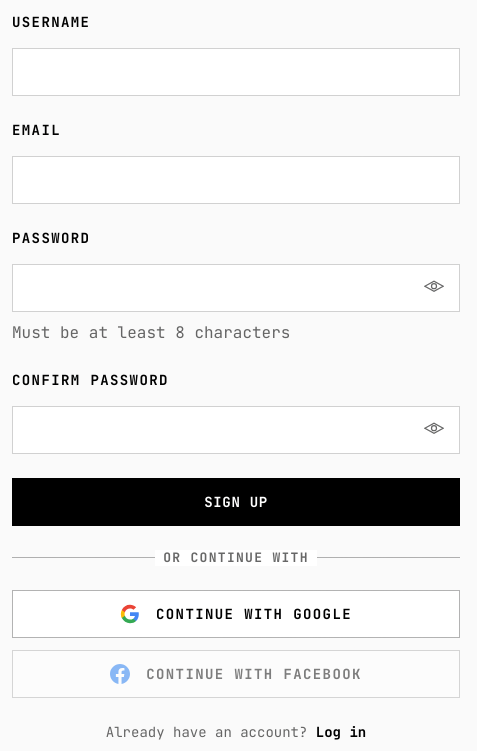
Scenario: SignupForm › Server-side error handling › shows field-specific errors from API
Type "existinguser" into the field labelled "Username" at (236, 72), box [12, 48, 460, 96]
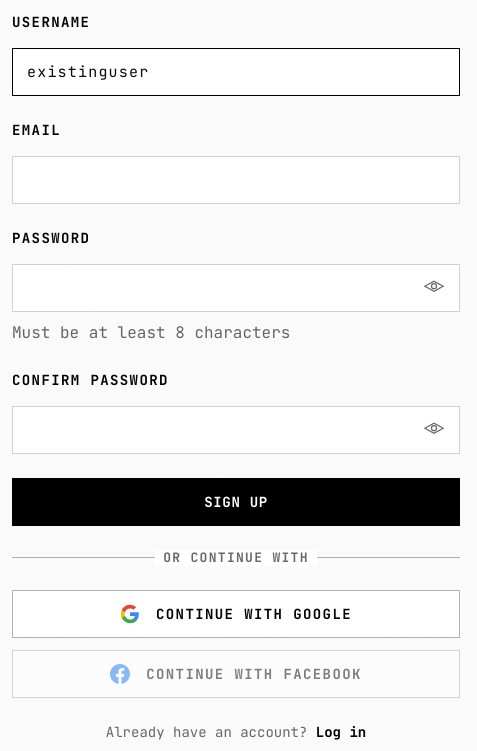
Type "existing@example.com" into the field labelled "Email" at (236, 180), box [12, 156, 460, 204]
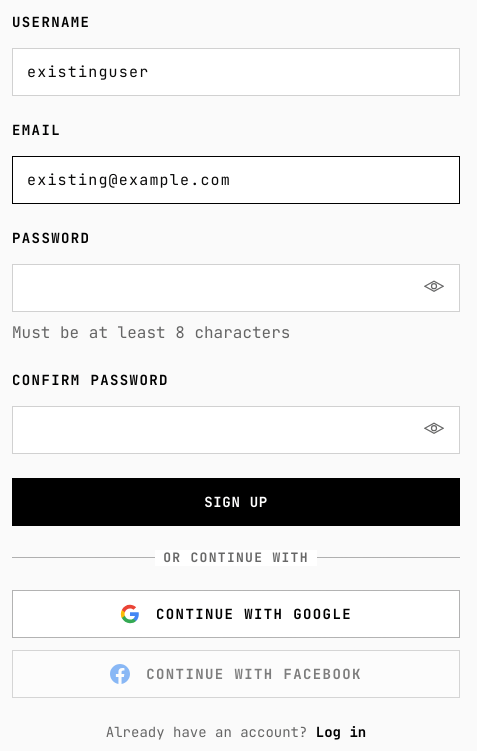
Type "password123" into the password field labelled "Password" at (236, 288), box [12, 264, 460, 312]
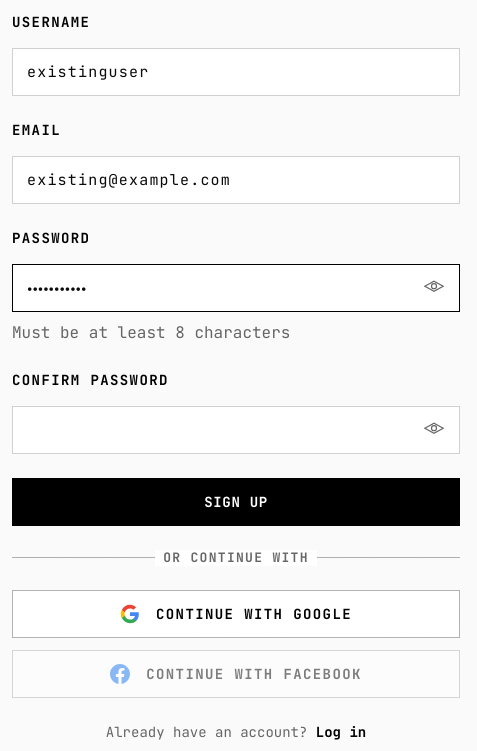
Type "password123" into the password field labelled "Confirm Password" at (236, 430), box [12, 406, 460, 454]
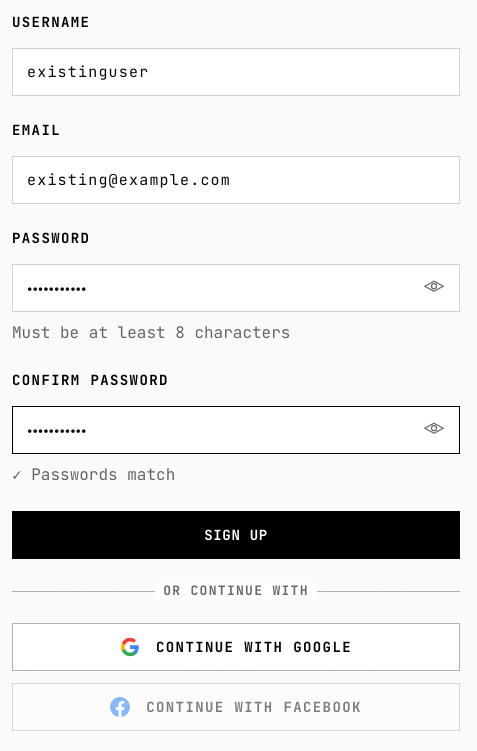
Click the button "Sign Up" at (236, 535), box [12, 511, 460, 559]
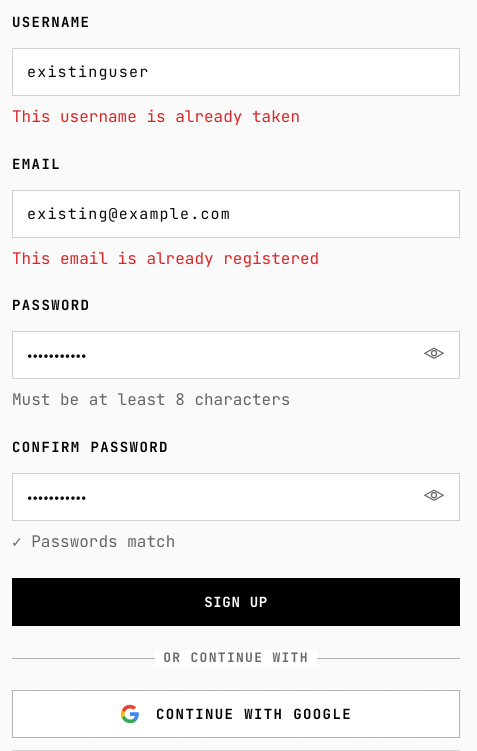
Check: the text "This username is already taken" is shown, box [12, 106, 300, 127]
Check: the text "This email is already registered" is shown, box [12, 248, 319, 269]
